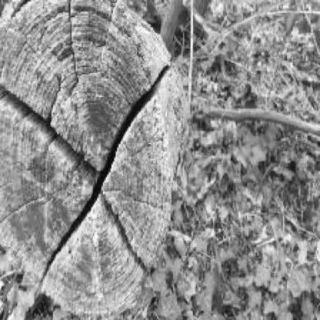other: (136, 135, 302, 267)
